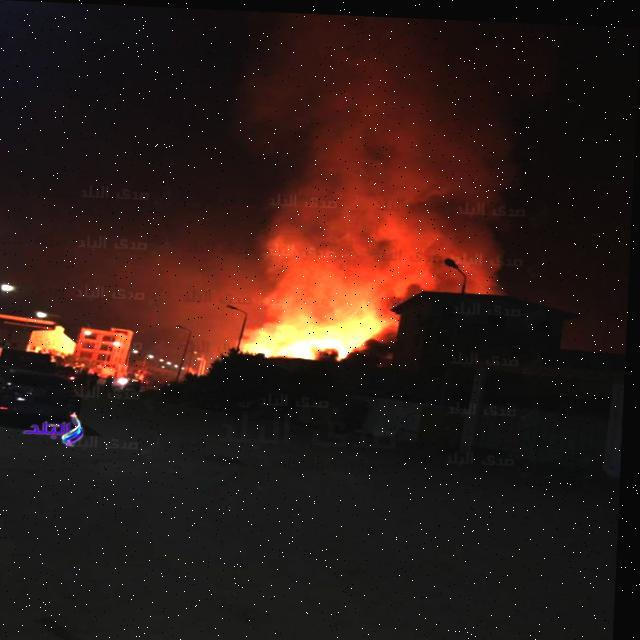Fire: (278, 273, 400, 359)
